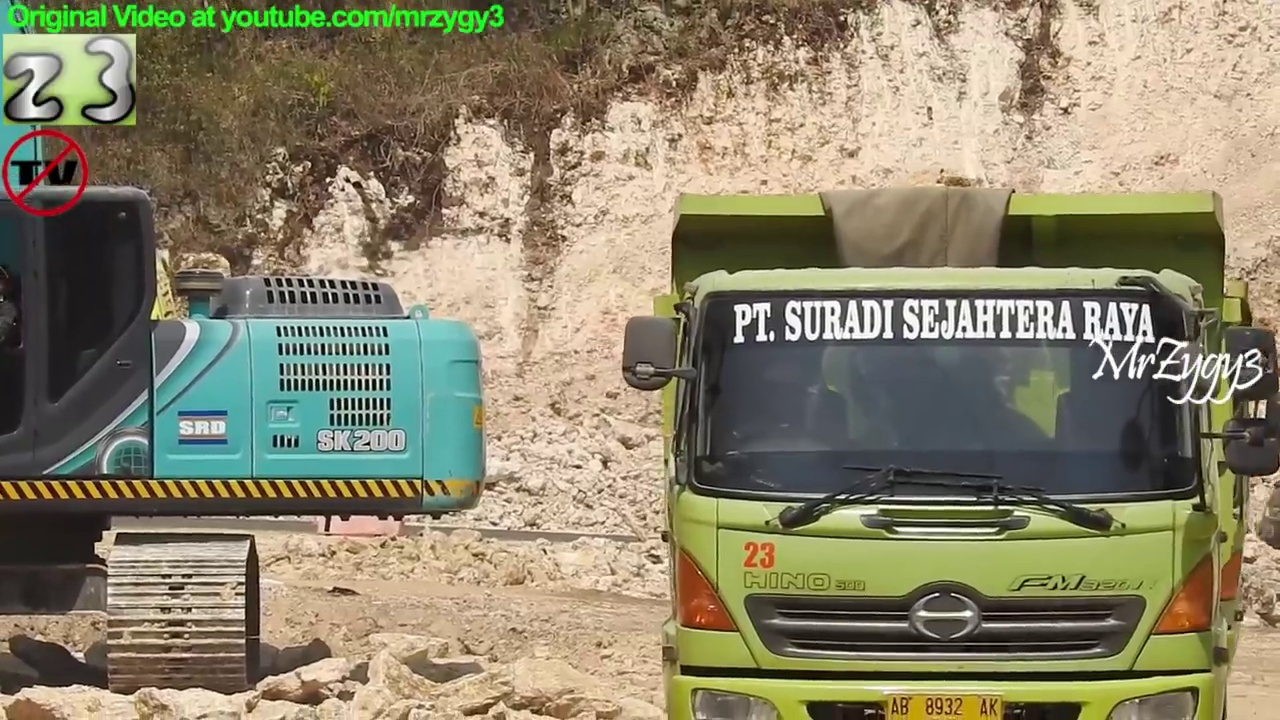excavator: (1, 1, 491, 702)
truck: (620, 185, 1277, 720)
